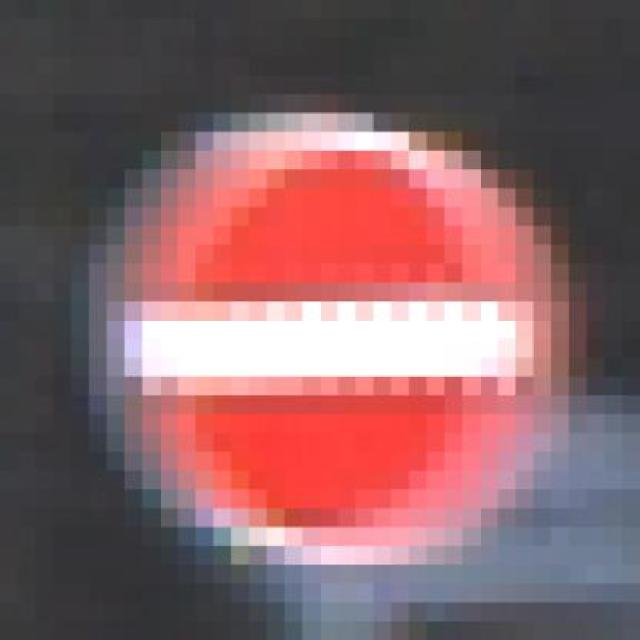No Entry: (82, 83, 633, 592)
